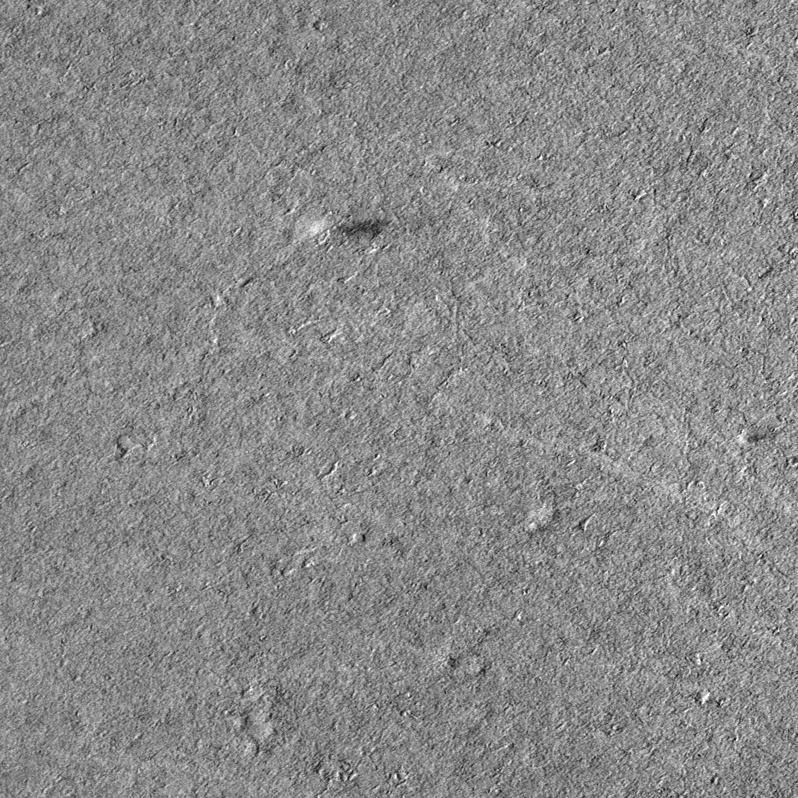dust_devil: (307, 216, 394, 241)
